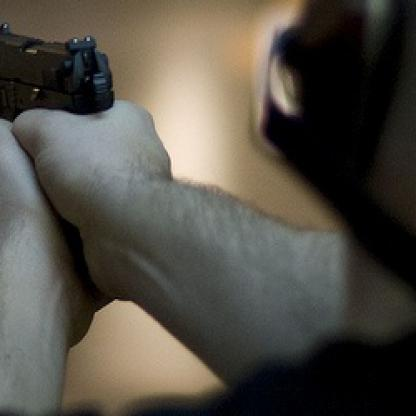gun: (0, 19, 110, 297)
